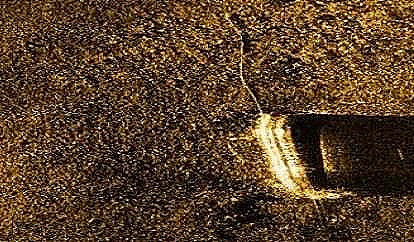ship: (253, 113, 327, 200)
